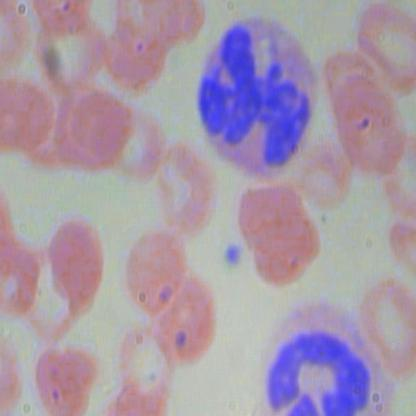Platelets: (223, 242, 246, 270)
WBC: (187, 9, 326, 183), (246, 299, 392, 415)
